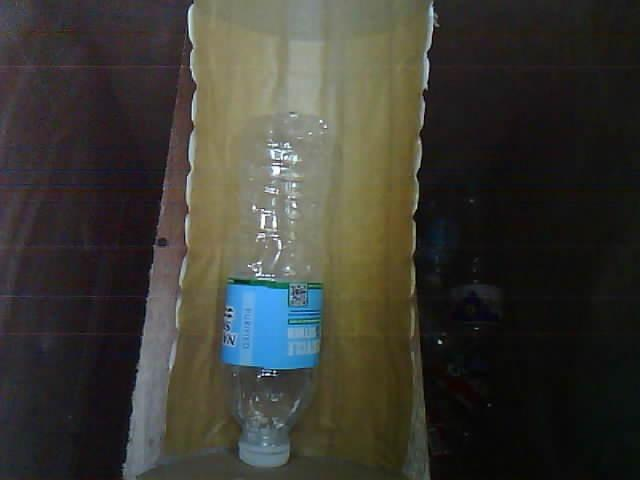small_bottle: (218, 106, 342, 480)
